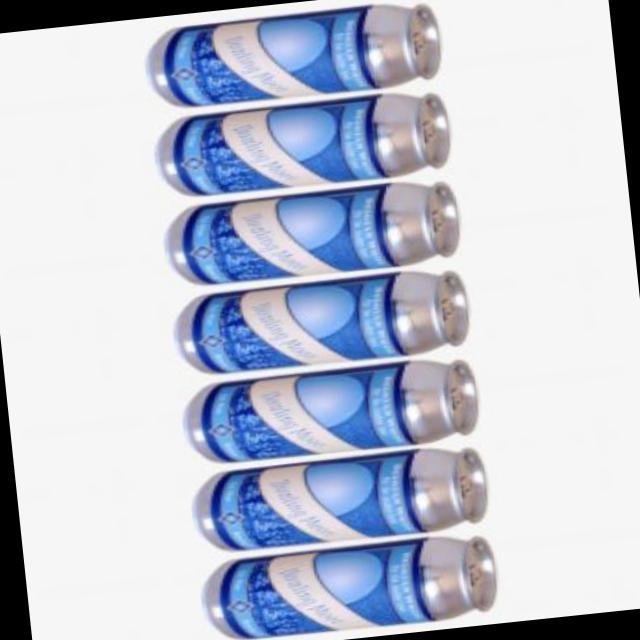metal: (154, 1, 442, 102), (181, 268, 470, 368), (172, 179, 461, 279), (162, 91, 451, 191), (191, 357, 478, 457), (202, 446, 488, 545), (220, 541, 441, 634), (463, 537, 496, 606)
